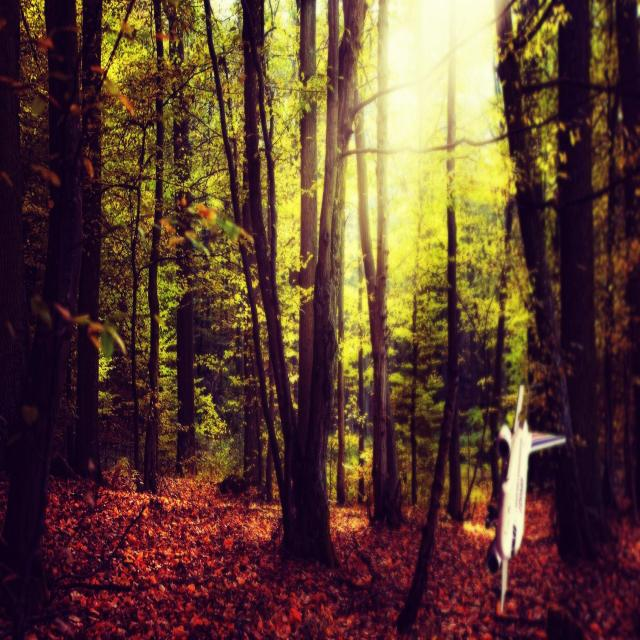airplane: (486, 383, 566, 614)
